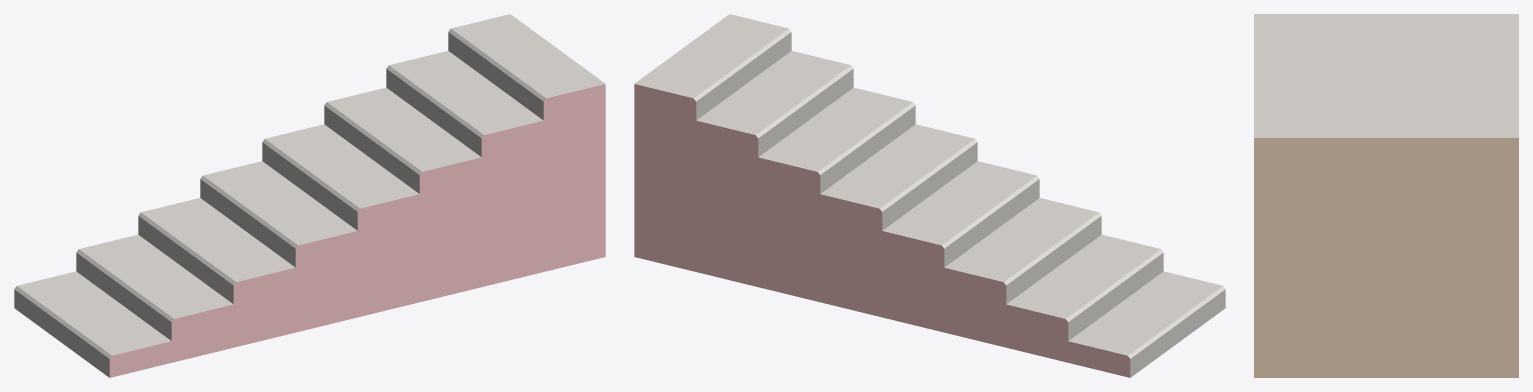
Rendered from Tiered_Walkway_Steps_Straight_1x3.glb.
3 renders of one model, left to right at view 1: azimuth 30°, elevation 25°; view 2: azimuth 150°, elevation 25°; view 3: azimuth 270°, elevation 25°, orthographic. The views are drawn at different scales.
Visible parts, largest first — view 1: Tiered_Walkway_Steps_Straight_1x3; view 2: Tiered_Walkway_Steps_Straight_1x3; view 3: Tiered_Walkway_Steps_Straight_1x3.
Boxes of the visible parts, x1=… form: Tiered_Walkway_Steps_Straight_1x3: x1=14, y1=14, x2=605, y2=377; Tiered_Walkway_Steps_Straight_1x3: x1=634, y1=14, x2=1225, y2=377; Tiered_Walkway_Steps_Straight_1x3: x1=1254, y1=14, x2=1518, y2=377.
Bounding box in the file's own units: 300 × 100 × 100.
